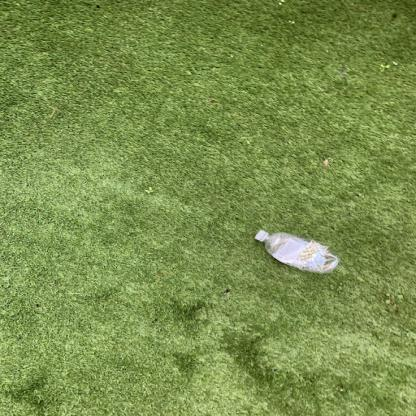trash: (255, 230, 341, 277)
